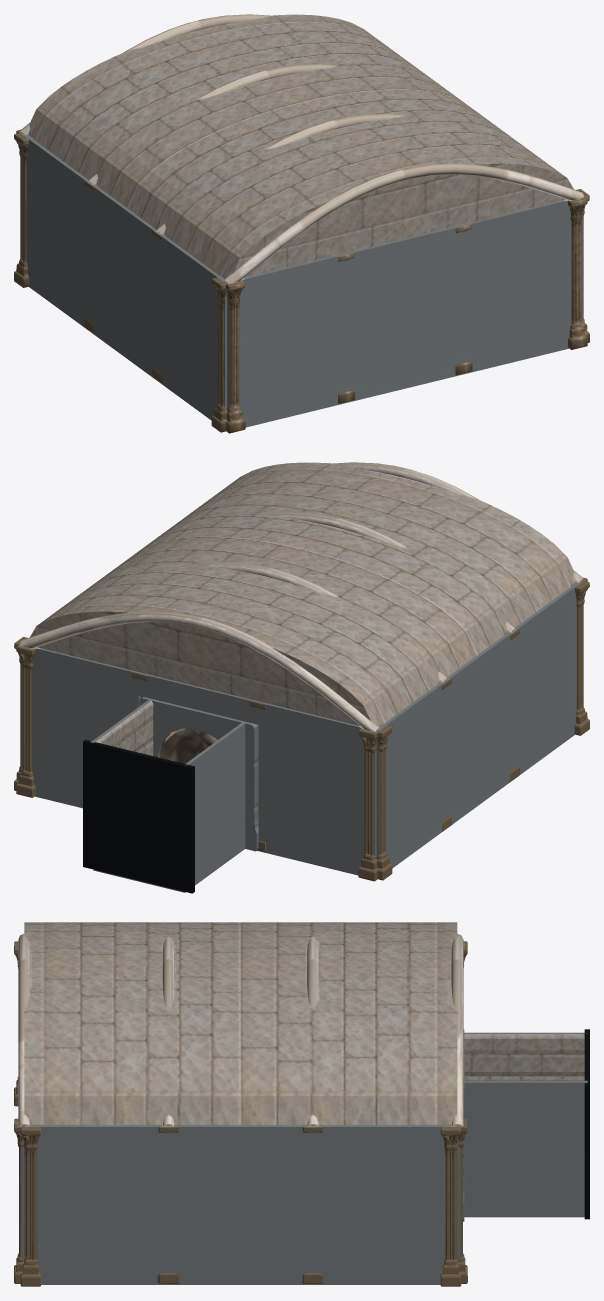
Rendered from room.glb.
3 views of the same model, one above another, from view 1: azimuth 30°, elevation 25°; view 2: azimuth 150°, elevation 25°; view 3: azimuth 270°, elevation 25° (orthographic). The views are drawn at different scales.
Visible parts, largest first — view 1: CRYPT-ROOM; view 2: CRYPT-ROOM; view 3: CRYPT-ROOM.
Boxes of the visible parts, x1=… form: CRYPT-ROOM: x1=14, y1=14, x2=589, y2=433; CRYPT-ROOM: x1=14, y1=462, x2=589, y2=893; CRYPT-ROOM: x1=14, y1=922, x2=589, y2=1286.
Bounding box in the file's own units: 10.48 × 5.95 × 13.3.
Materials: 1 (1 with a texture image).
